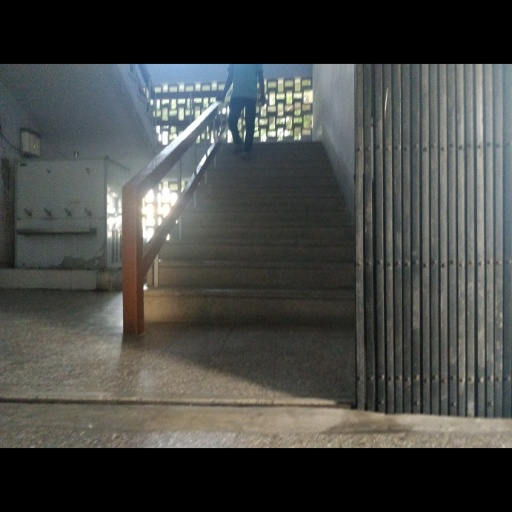Stairs: (145, 142, 354, 326)
